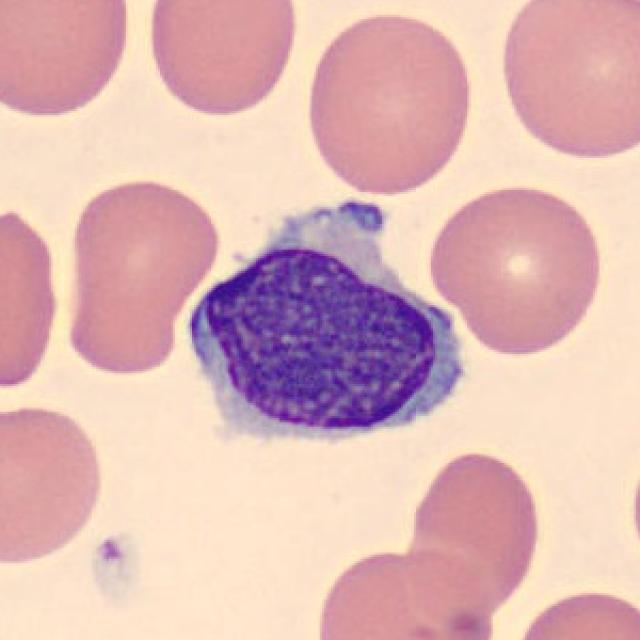White Blood Cell: (191, 202, 460, 436)
